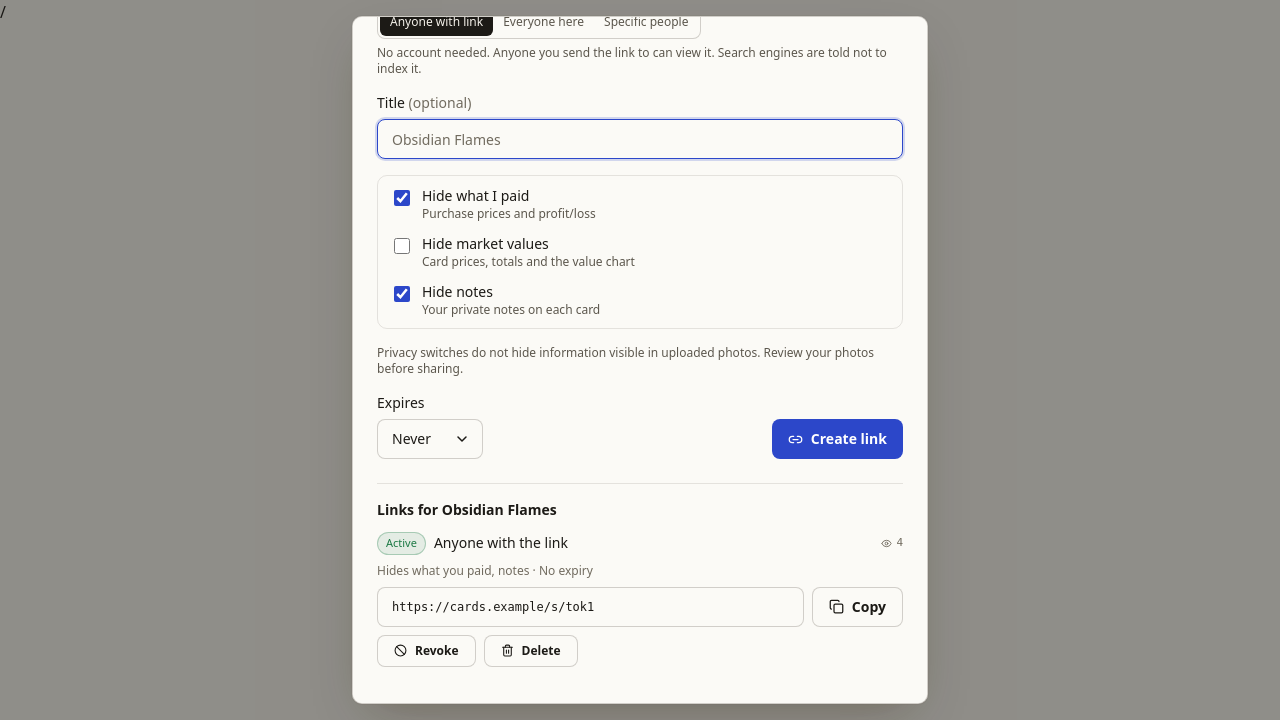
Test: ShareDialog › revokes and deletes links
The width and height of the screenshot is (1280, 720).
(page scrolled)
Expected: the text "Active" is shown, [377, 532, 426, 554]
Click the button "Revoke": (426, 650) [377, 634, 476, 666]
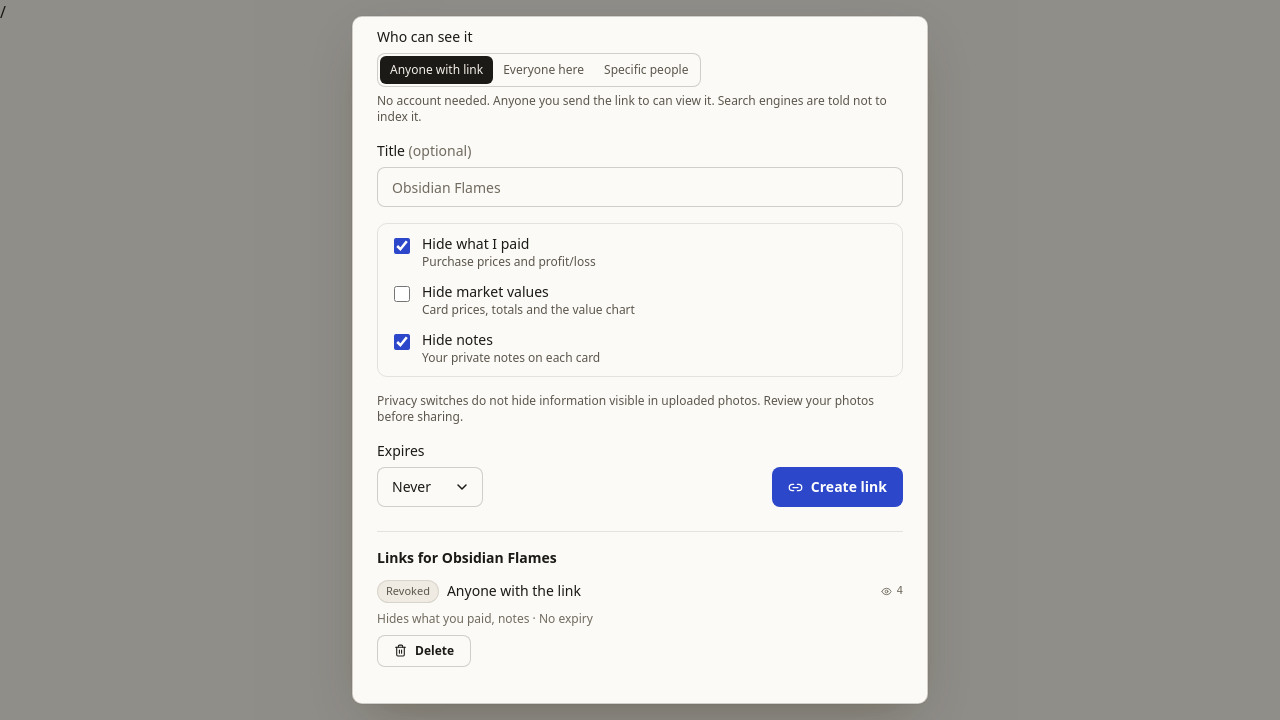
Result: the text "Revoked" is shown at [377, 580, 439, 602]
Click the button with aria-label "Delete link": (424, 650) [377, 634, 471, 666]
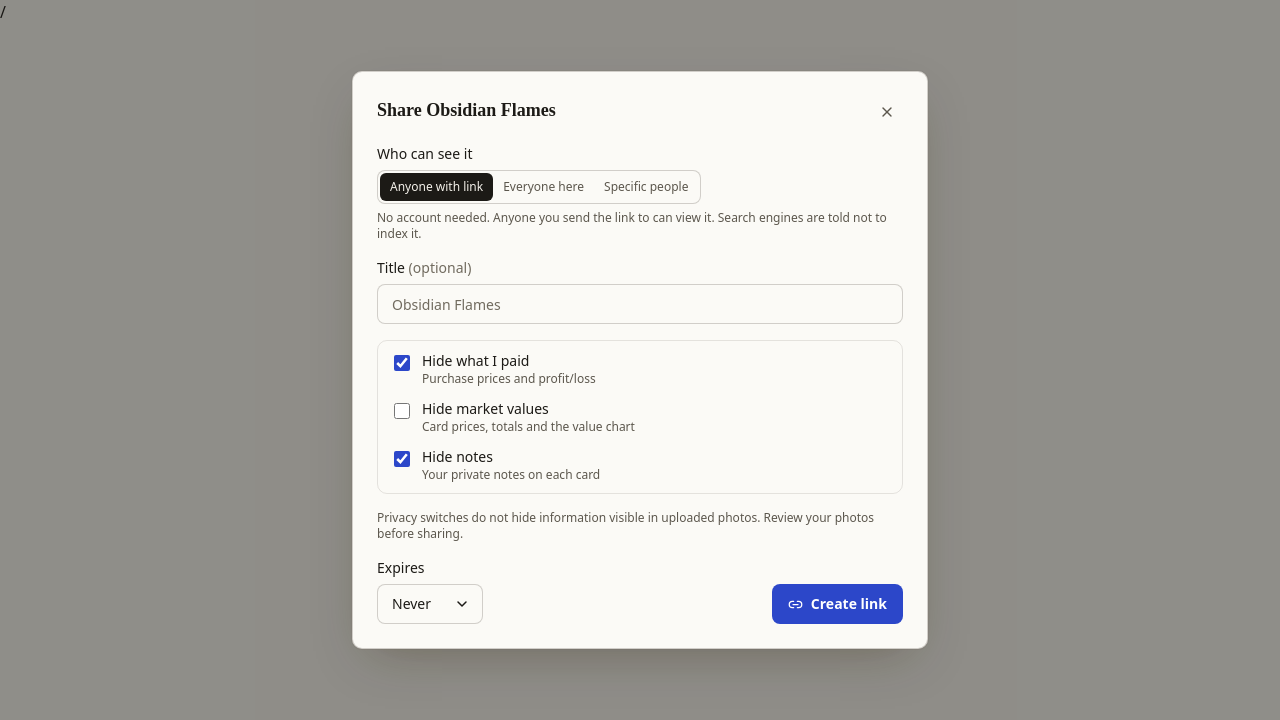
Result: the heading "Links for Obsidian Flames" is gone
